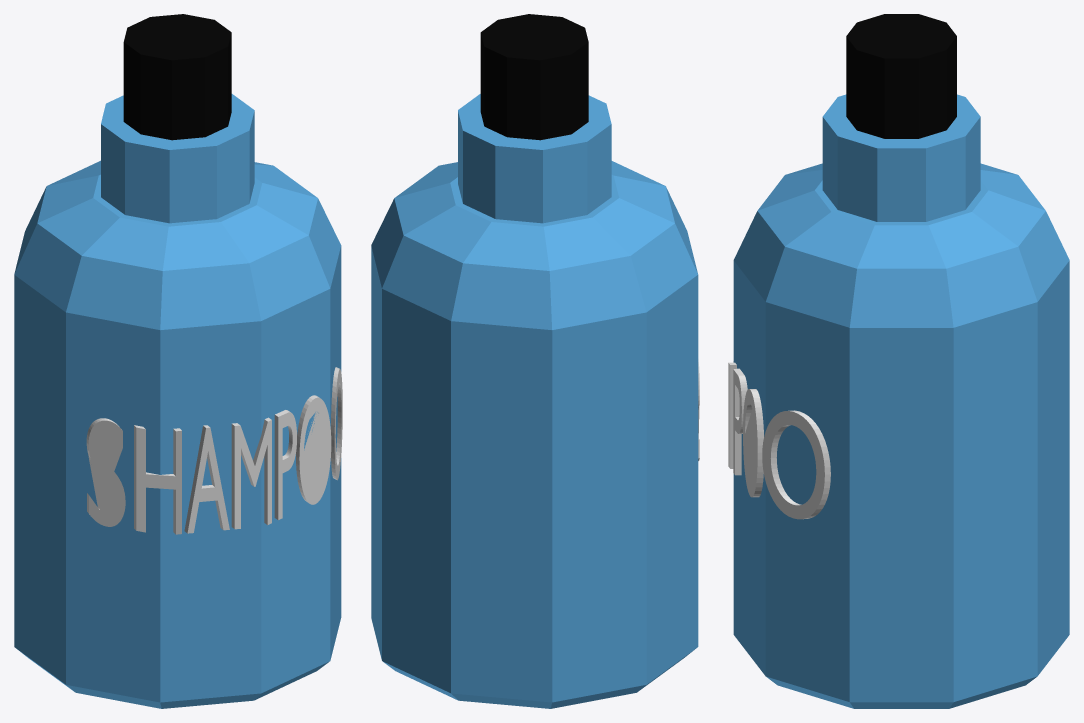
The model's file is shampoo.fbx.
The picture shows the model from 3 angles, left to right: view 1: azimuth 30°, elevation 25°; view 2: azimuth 150°, elevation 25°; view 3: azimuth 270°, elevation 25°; orthographic projection.
Visible parts, largest first — view 1: Text; view 2: Text; view 3: Text.
Boxes of the visible parts, x1=… form: Text: x1=14, y1=14, x2=342, y2=708; Text: x1=371, y1=14, x2=699, y2=708; Text: x1=728, y1=14, x2=1069, y2=708.
Bounding box in the file's own units: 190 × 401 × 203.
